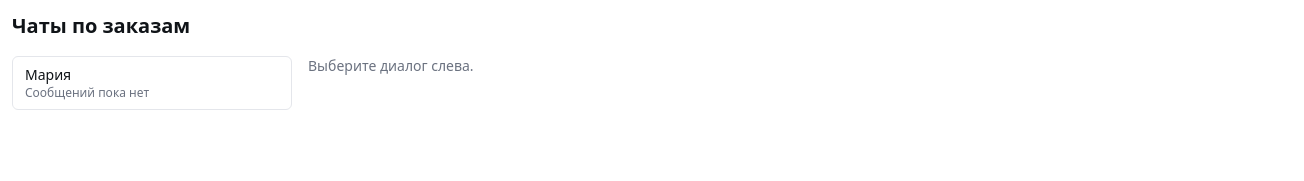
Test: ChatsPage › открытие диалога грузит переписку и помечает прочтённым
Click the button "Мария Сообщений пока нет" at x=152, y=83, box [12,56,292,110]
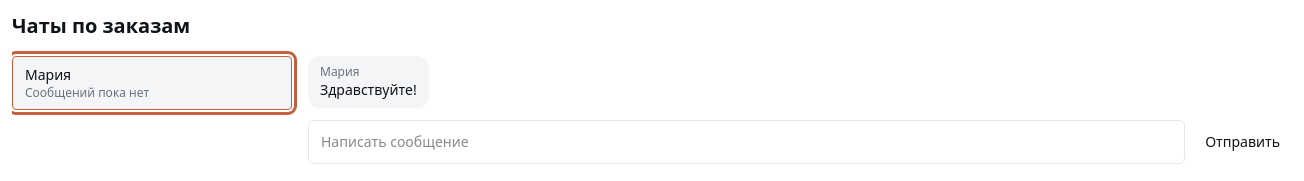
Expected: the list item "Мария Здравствуйте!" is shown, [308,56,429,108]
